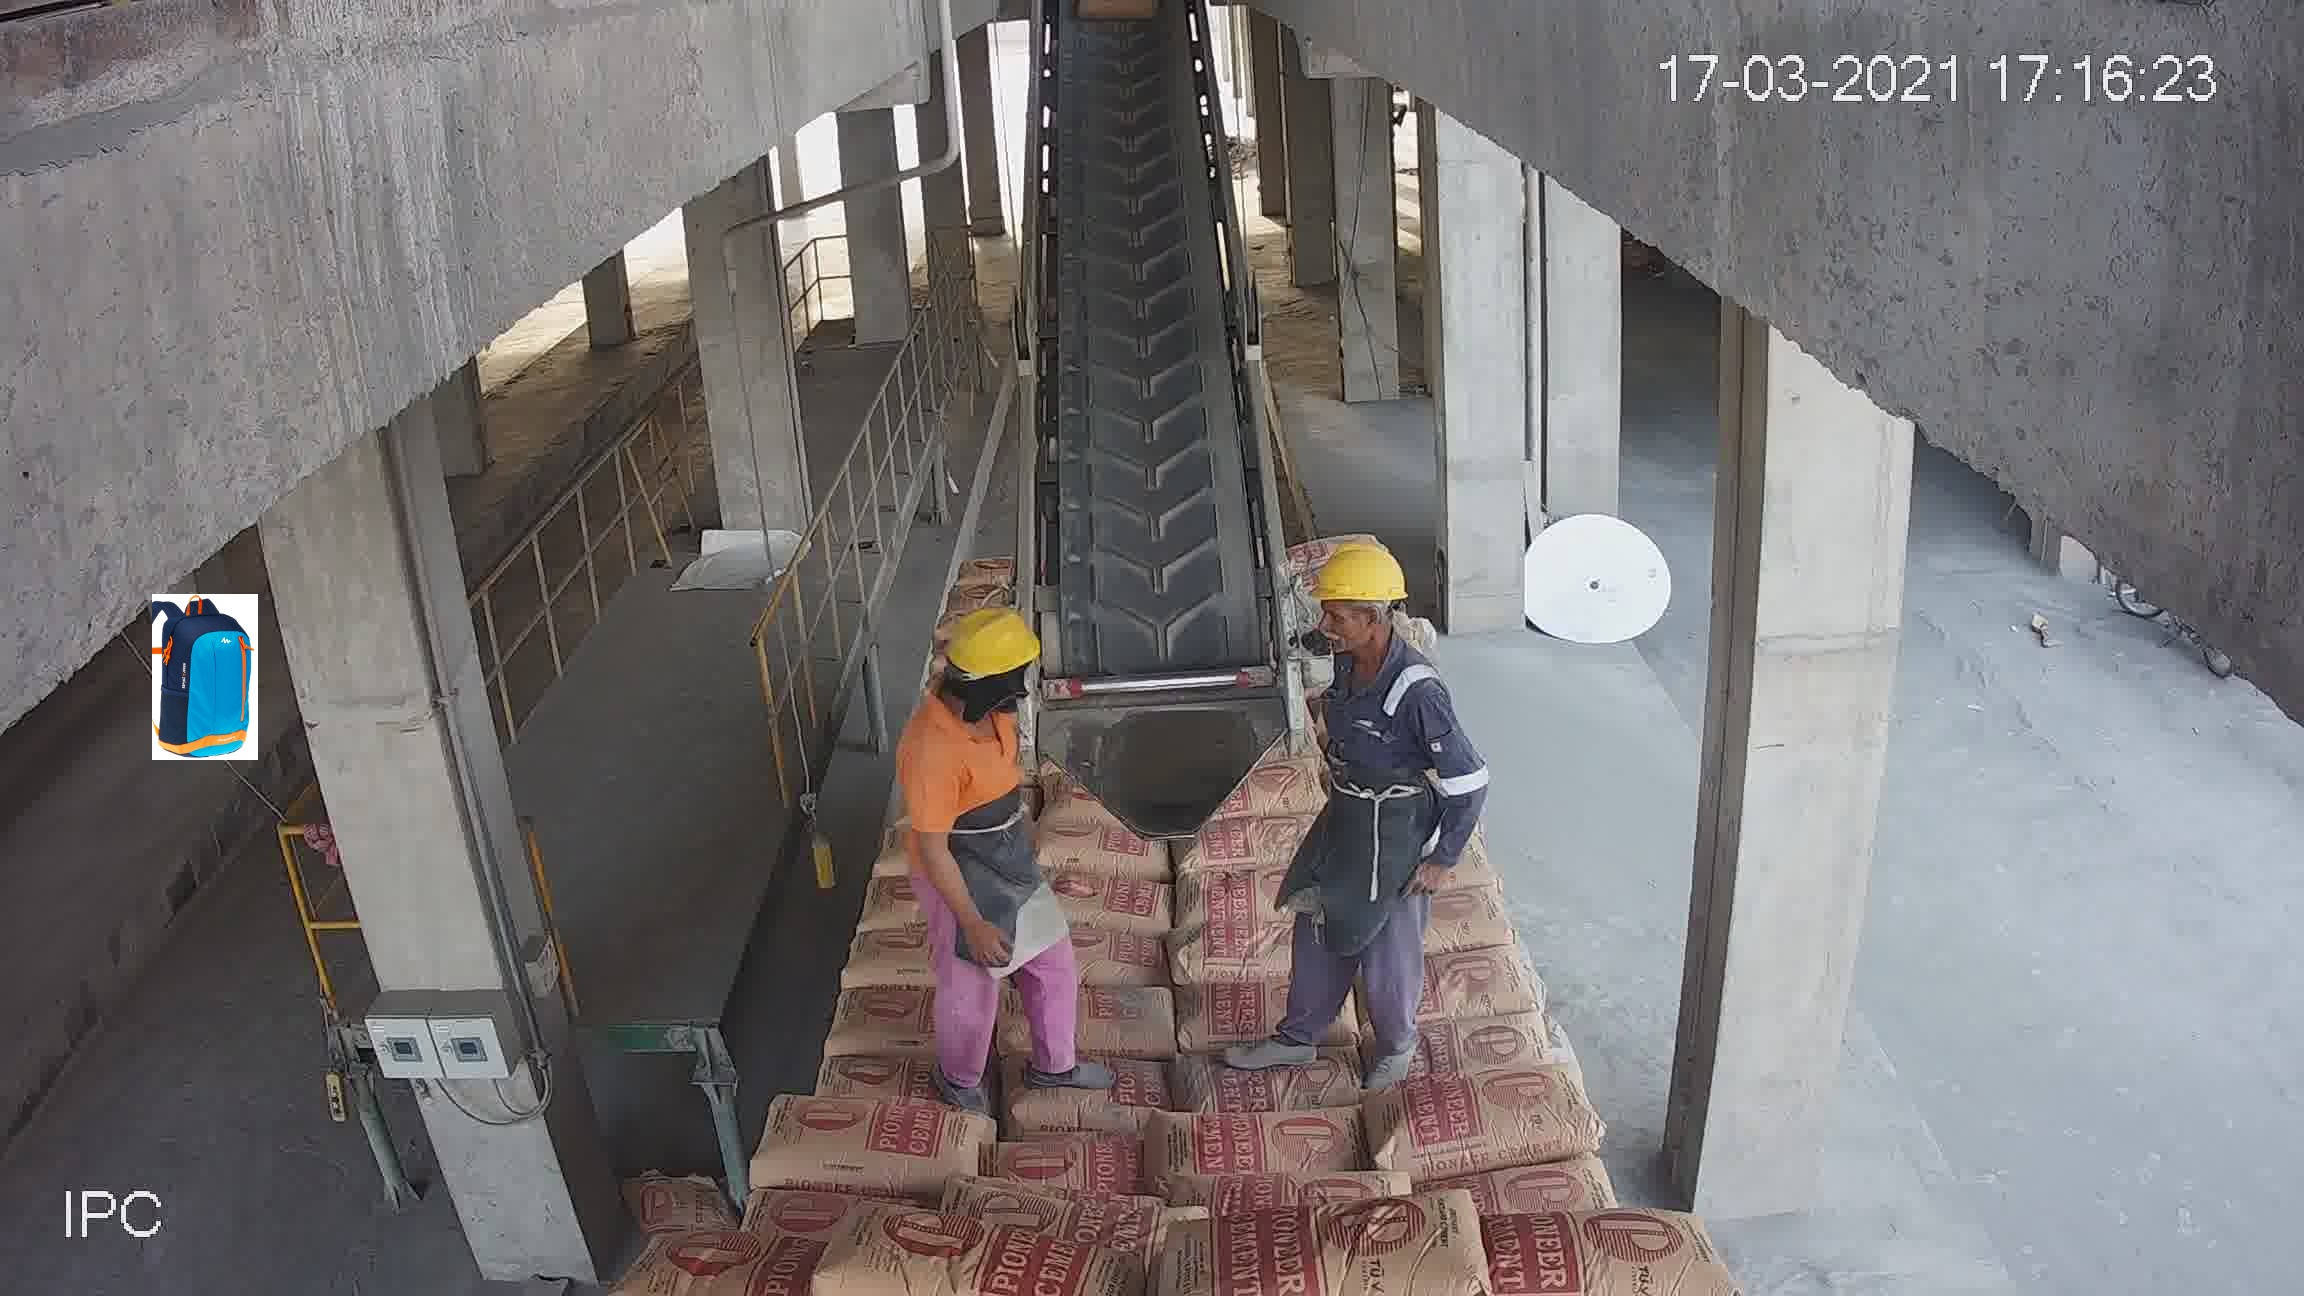bag_h: (1207, 1182, 1532, 1294), (1348, 1060, 1603, 1187), (794, 1215, 1135, 1296), (1431, 1203, 1698, 1294), (753, 1097, 1000, 1195), (1150, 1103, 1377, 1198), (1174, 1030, 1367, 1116), (638, 1230, 847, 1296), (1003, 1051, 1176, 1128), (796, 1038, 972, 1108), (991, 1141, 1163, 1209), (1416, 946, 1541, 1038), (809, 983, 937, 1070), (1416, 1006, 1570, 1076), (1036, 869, 1171, 942), (1180, 862, 1290, 945), (1171, 929, 1305, 992), (1070, 980, 1174, 1060), (1030, 821, 1157, 881), (1187, 812, 1301, 878), (1185, 980, 1291, 1041), (1071, 926, 1161, 989)
belt: (1013, 52, 1277, 771)
